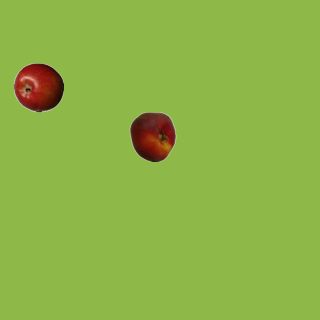Apple Braeburn: (13, 62, 63, 112)
Nectarine Flat: (127, 111, 177, 161)
